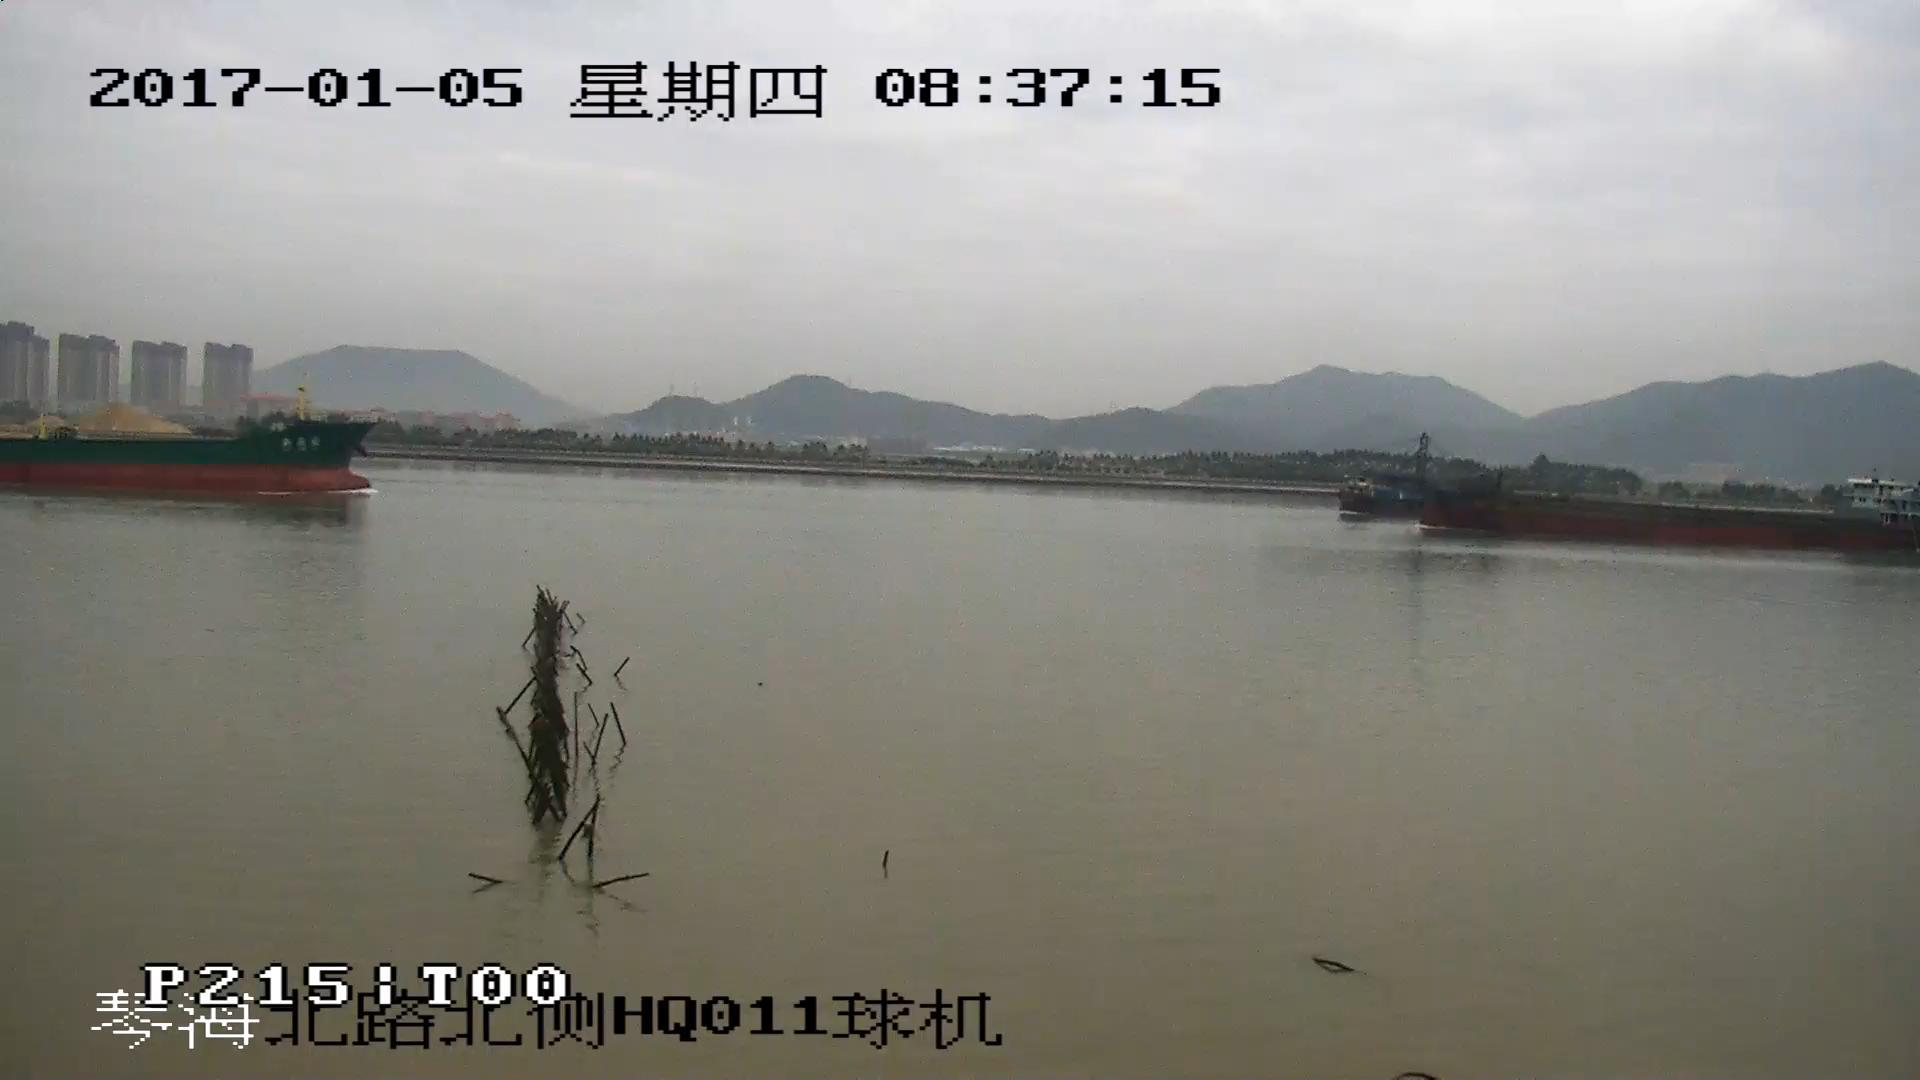Ship: (1340, 442, 1920, 553), (3, 389, 371, 497)
